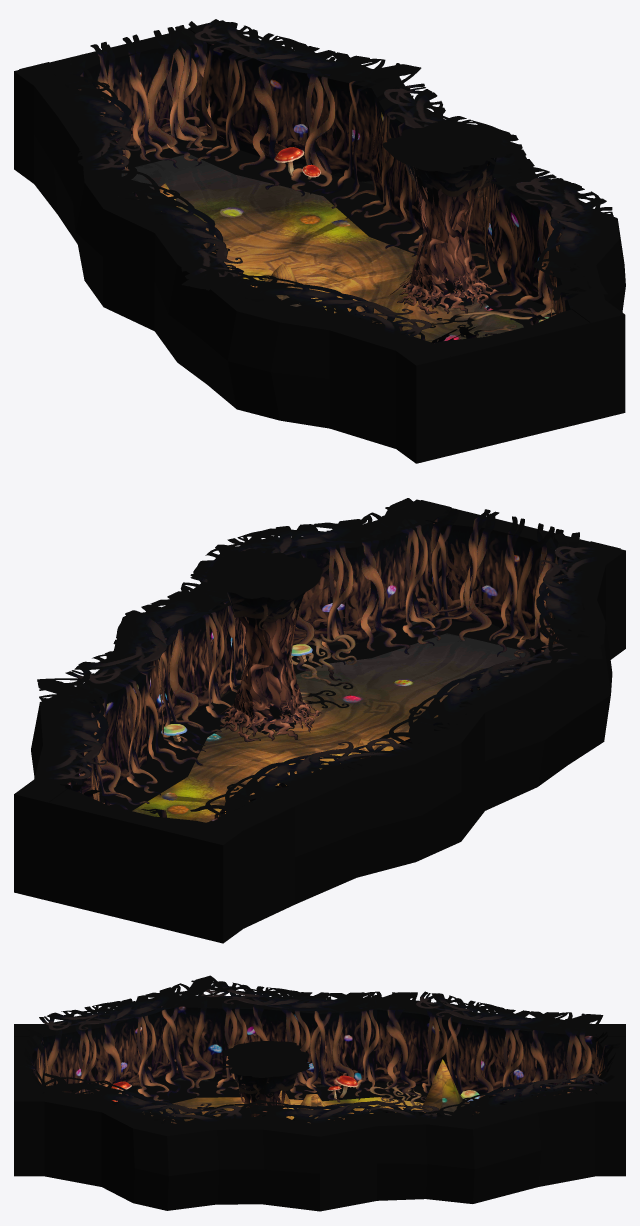
File: Dungeon_021_Road_002.fbx
3 views of the same model, one above another, from view 1: azimuth 30°, elevation 25°; view 2: azimuth 150°, elevation 25°; view 3: azimuth 270°, elevation 25° (orthographic). The views are drawn at different scales.
Visible parts, largest first — view 1: Dan1, Dungeon_021_Tsuta_002, un_021_Door_002 (×2), Dan2, Dungeon_021_Tsuta_001, Dungeon_021_Object_011, un_021_Door_002_Object1, Dan1_shadow, Dungeon_021_Object_010, Dungeon_021_Tsuta_003; view 2: Dan1, Dungeon_021_Tsuta_002, un_021_Door_002 (×2), Dan2, Dungeon_021_Tsuta_001, un_021_Door_002_Object1, Dungeon_021_Object_011, Dan1_shadow, Dungeon_021_Object_010, Dungeon_021_Tsuta_003, Dun_011_Door_002_shadow; view 3: Dan1, Dungeon_021_Tsuta_002, Dungeon_021_Tsuta_001, Dungeon_021_Object_010, un_021_Door_002 (×2), Dan1_shadow, Dan2, un_021_Door_002_Object1 (×2), Dungeon_011_Object_011, Dungeon_021_Tsuta_003, Dungeon_021_Object_011.
Boxes of the visible parts, box(x1,y1,x2,y2) form: Dan1: box(14, 20, 625, 463); Dungeon_021_Tsuta_002: box(29, 19, 614, 339); un_021_Door_002 (×2): box(19, 21, 619, 455); Dan2: box(121, 155, 523, 342); Dungeon_021_Tsuta_001: box(54, 38, 590, 340); Dungeon_021_Object_011: box(390, 165, 499, 314); un_021_Door_002_Object1: box(69, 21, 223, 170); Dan1_shadow: box(175, 140, 555, 327); Dungeon_021_Object_010: box(382, 120, 506, 197); Dungeon_021_Tsuta_003: box(216, 248, 555, 337); Dan1: box(14, 499, 625, 943); Dungeon_021_Tsuta_002: box(37, 498, 605, 821); un_021_Door_002 (×2): box(19, 500, 620, 934); Dan2: box(132, 633, 529, 822); Dungeon_021_Tsuta_001: box(56, 506, 589, 818); un_021_Door_002_Object1: box(411, 508, 579, 658); Dungeon_021_Object_011: box(220, 597, 321, 742); Dan1_shadow: box(97, 619, 545, 810); Dungeon_021_Object_010: box(206, 548, 322, 629); Dungeon_021_Tsuta_003: box(285, 634, 357, 708); Dun_011_Door_002_shadow: box(447, 623, 540, 652); Dan1: box(14, 995, 625, 1211); Dungeon_021_Tsuta_002: box(33, 975, 610, 1127); Dungeon_021_Tsuta_001: box(44, 994, 591, 1123); Dungeon_021_Object_010: box(220, 1041, 312, 1099); un_021_Door_002 (×2): box(14, 1025, 625, 1099); Dan1_shadow: box(118, 1080, 509, 1112); Dan2: box(142, 1097, 479, 1123); un_021_Door_002_Object1 (×2): box(19, 1028, 619, 1085); Dungeon_011_Object_011: box(422, 1059, 465, 1115); Dungeon_021_Tsuta_003: box(369, 1081, 430, 1110); Dungeon_021_Object_011: box(234, 1074, 285, 1116).
Size of what is drawn, in the model's own units: 9.14 by 3.03 by 15.
